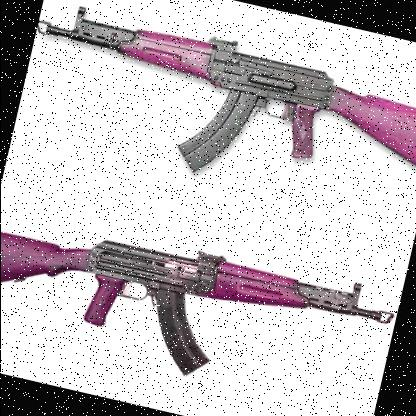rifle: (0, 171, 405, 416), (15, 0, 416, 211)
